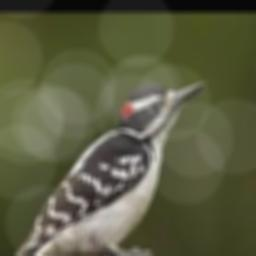Woodpecker: (5, 80, 206, 256)
